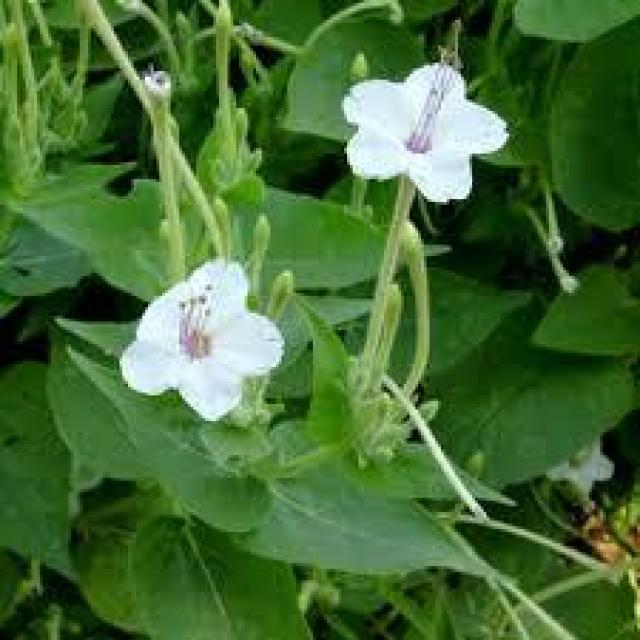organic waste: (128, 250, 299, 410), (337, 61, 505, 195)
